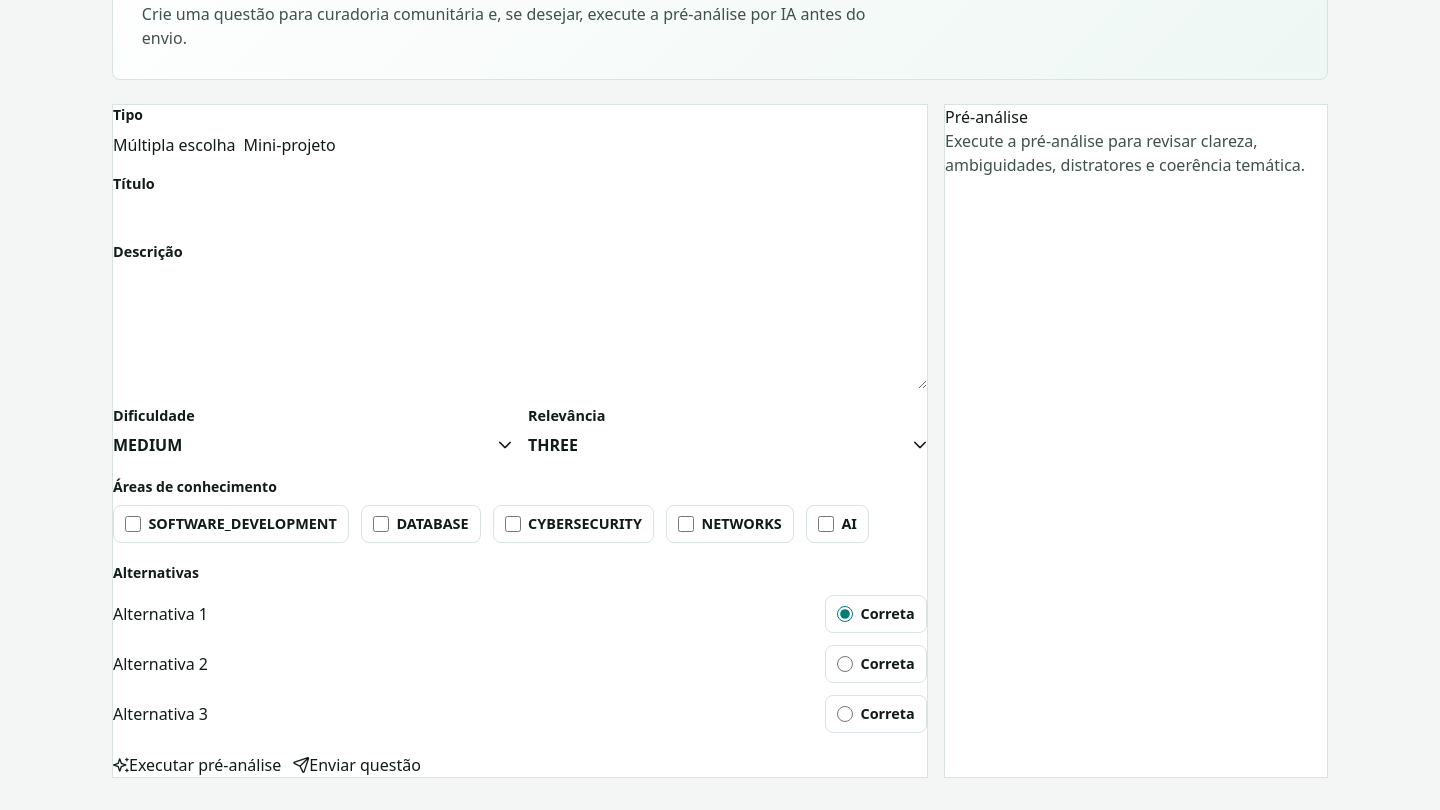
Scenario: QuestionSubmissionView › validates the title length before pre-analysis
The image size is (1440, 810).
(page scrolled)
Click the button with test id "pre-analyze-question": (197, 764) [113,752,281,776]
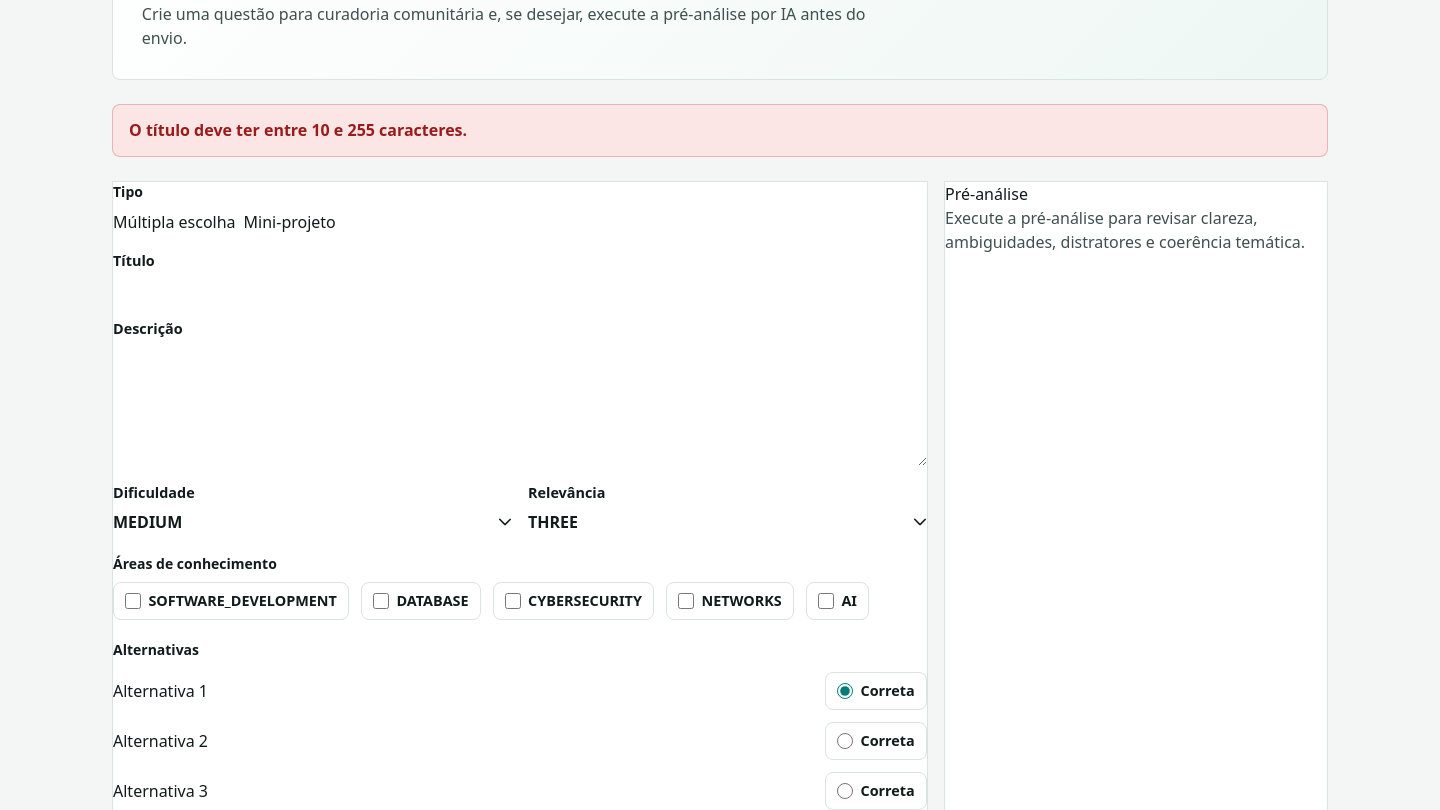
Check: the text "O título deve ter entre 10 e 255 caracteres." is shown, box [112,104,1328,157]
